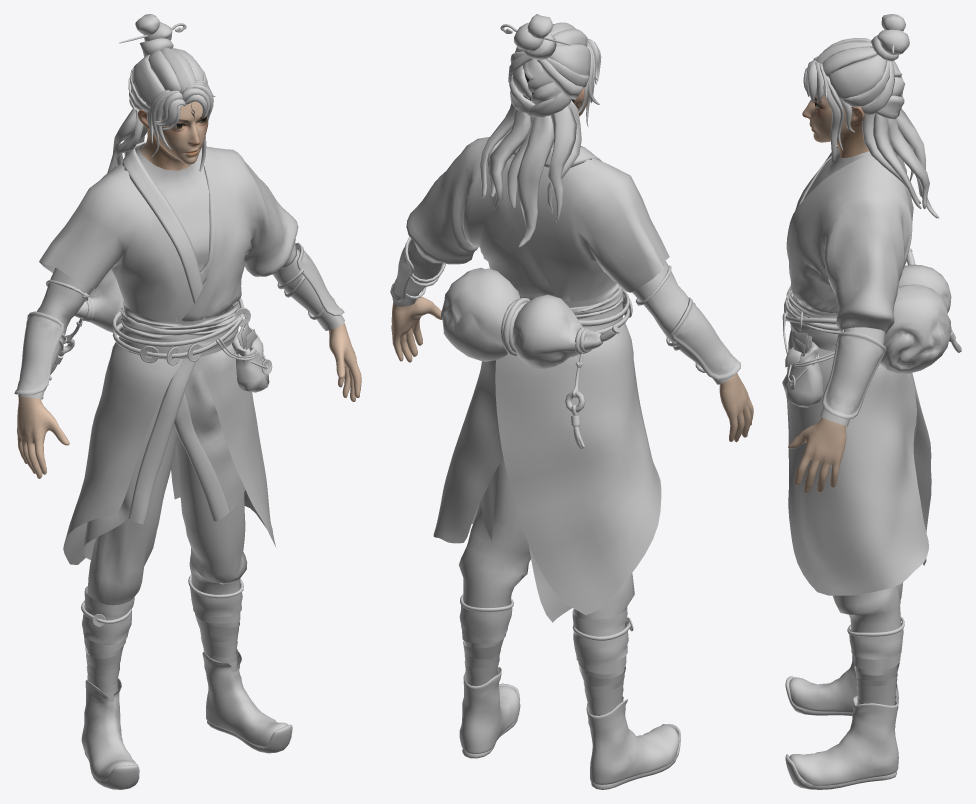
Rendered from ALL2.fbx.
3 views of the same model, side by side, from view 1: azimuth 30°, elevation 25°; view 2: azimuth 150°, elevation 25°; view 3: azimuth 270°, elevation 25° (orthographic). The views are drawn at different scales.
Visible parts, largest first — view 1: JIAOSHE_YIFU_UV, JIAOSHE_DAOJU_UV, JIAOSHE_TOUFA_UV, JIAOSHE_TOU_UV; view 2: JIAOSHE_YIFU_UV, JIAOSHE_DAOJU_UV, JIAOSHE_TOUFA_UV, JIAOSHE_TOU_UV; view 3: JIAOSHE_YIFU_UV, JIAOSHE_DAOJU_UV, JIAOSHE_TOUFA_UV, JIAOSHE_TOU_UV.
Boxes of the visible parts, <box> form: JIAOSHE_YIFU_UV: <box>18,141,344,789</box>; JIAOSHE_DAOJU_UV: <box>14,23,344,626</box>; JIAOSHE_TOUFA_UV: <box>107,14,215,173</box>; JIAOSHE_TOU_UV: <box>17,101,361,478</box>; JIAOSHE_YIFU_UV: <box>392,137,730,789</box>; JIAOSHE_DAOJU_UV: <box>390,24,740,640</box>; JIAOSHE_TOUFA_UV: <box>480,14,601,247</box>; JIAOSHE_TOU_UV: <box>391,72,753,442</box>; JIAOSHE_YIFU_UV: <box>785,146,931,789</box>; JIAOSHE_DAOJU_UV: <box>782,43,961,636</box>; JIAOSHE_TOUFA_UV: <box>803,14,939,218</box>; JIAOSHE_TOU_UV: <box>788,76,868,493</box>.
Size of the model in its own units: 185 by 386 by 86.12.
